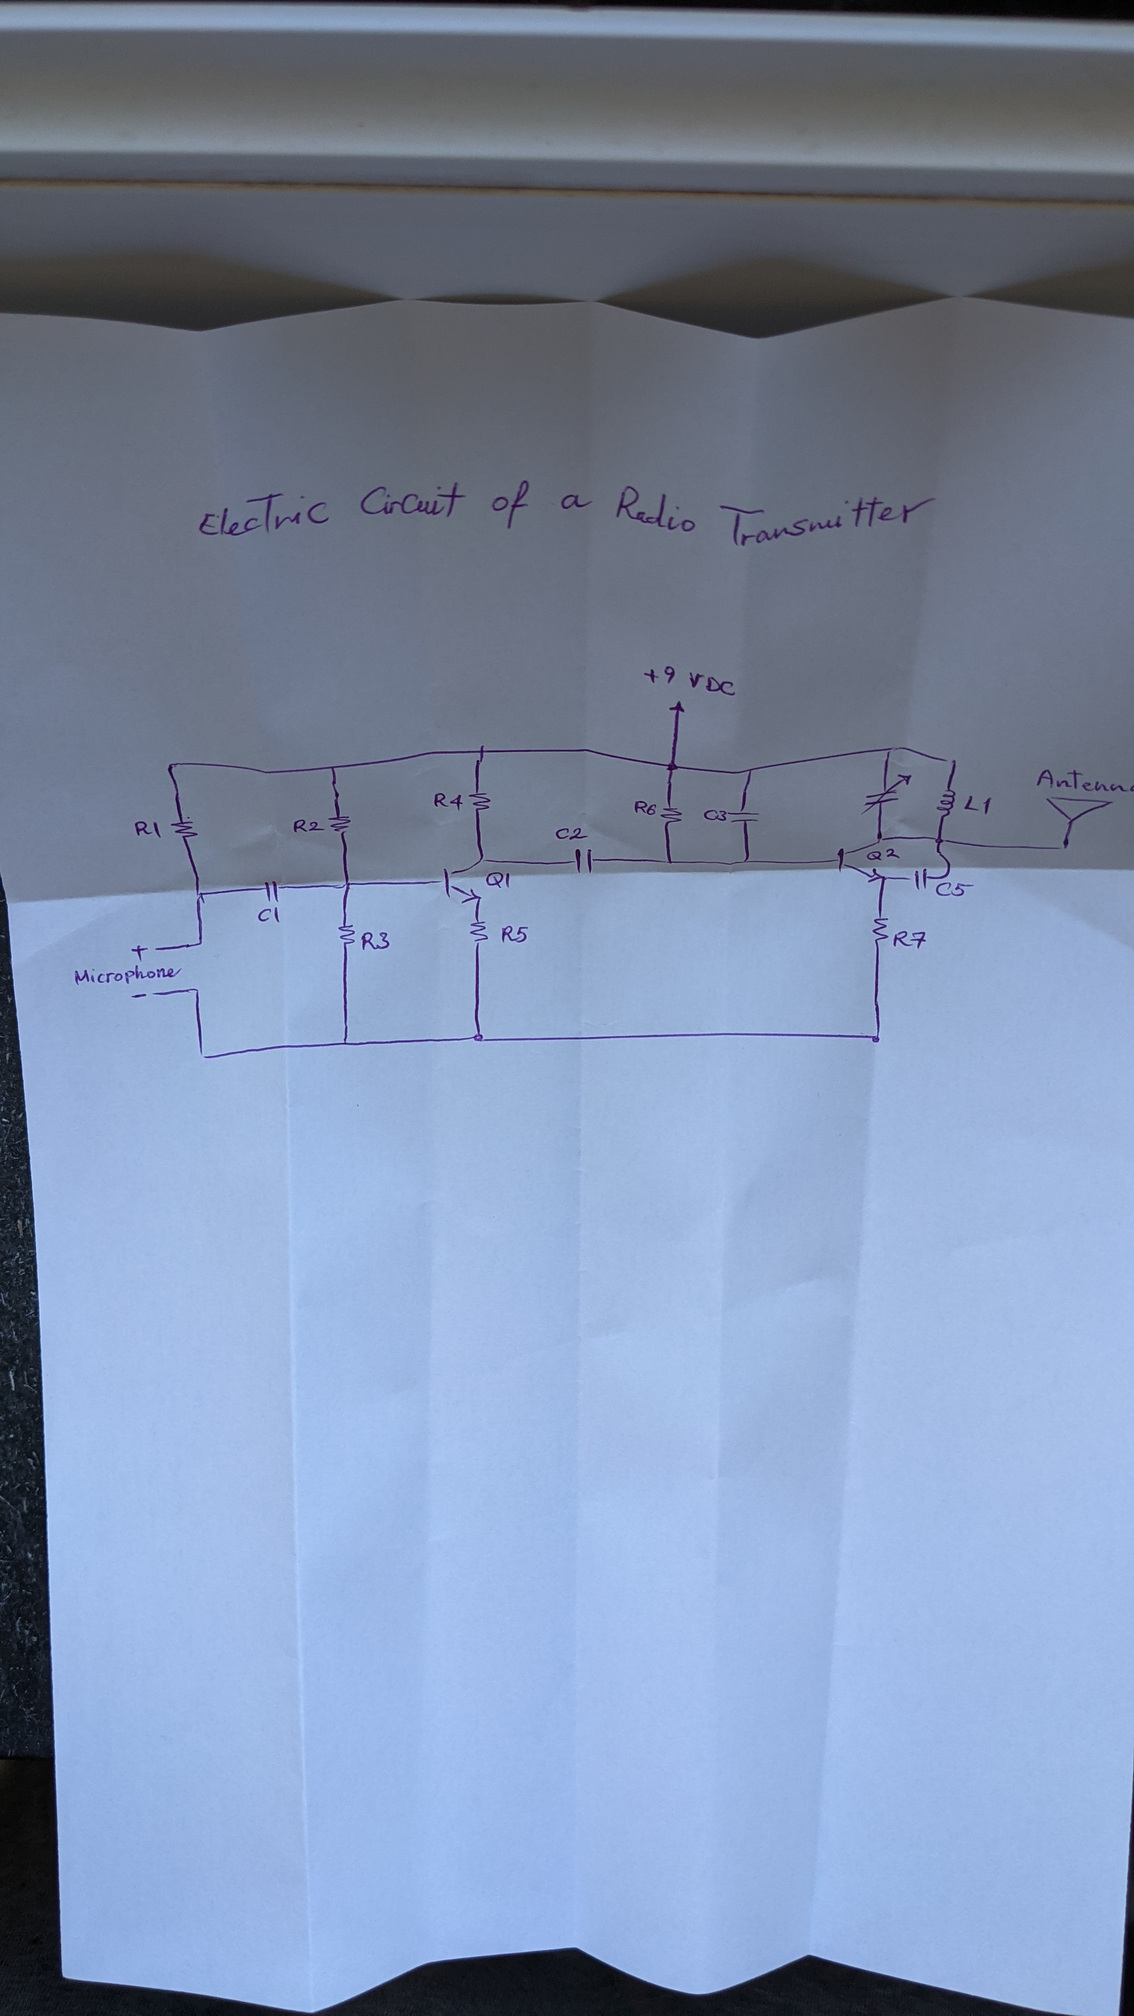antenna: (1044, 795, 1115, 825)
capacitor.unpolarized: (858, 773, 914, 816), (570, 845, 598, 876), (727, 806, 762, 828), (906, 865, 930, 892), (262, 878, 285, 903)
inductor: (933, 786, 957, 820)
junction: (192, 888, 209, 906), (335, 878, 354, 893), (474, 744, 487, 764), (469, 1030, 487, 1045), (665, 757, 680, 773), (197, 1048, 210, 1063), (883, 744, 900, 756), (870, 1032, 883, 1045), (1056, 840, 1070, 853), (943, 756, 960, 766), (932, 834, 946, 845), (937, 870, 951, 881), (739, 854, 753, 865), (163, 760, 177, 771), (197, 937, 208, 950), (190, 984, 202, 996), (341, 1036, 352, 1048), (663, 856, 676, 865), (327, 763, 339, 773), (745, 764, 755, 773)
resistor: (168, 817, 199, 842), (659, 802, 684, 829), (468, 917, 490, 947), (871, 912, 890, 946), (327, 814, 353, 838), (336, 922, 359, 950), (467, 791, 492, 814)
terminal: (150, 990, 161, 998), (152, 944, 161, 953)
text: (194, 478, 942, 550), (642, 665, 738, 698), (1034, 767, 1134, 793), (72, 962, 184, 984), (892, 929, 928, 951), (935, 881, 975, 899), (962, 793, 993, 817), (359, 930, 390, 953), (132, 818, 163, 840), (500, 924, 530, 944), (433, 791, 464, 811), (253, 904, 282, 925), (291, 817, 327, 834), (865, 846, 901, 863), (554, 827, 590, 842), (485, 870, 511, 890), (633, 799, 658, 817), (129, 943, 150, 961), (702, 809, 728, 822), (129, 989, 150, 1002)
transistor: (836, 832, 890, 883), (436, 854, 489, 906)
vss: (667, 699, 687, 714)
